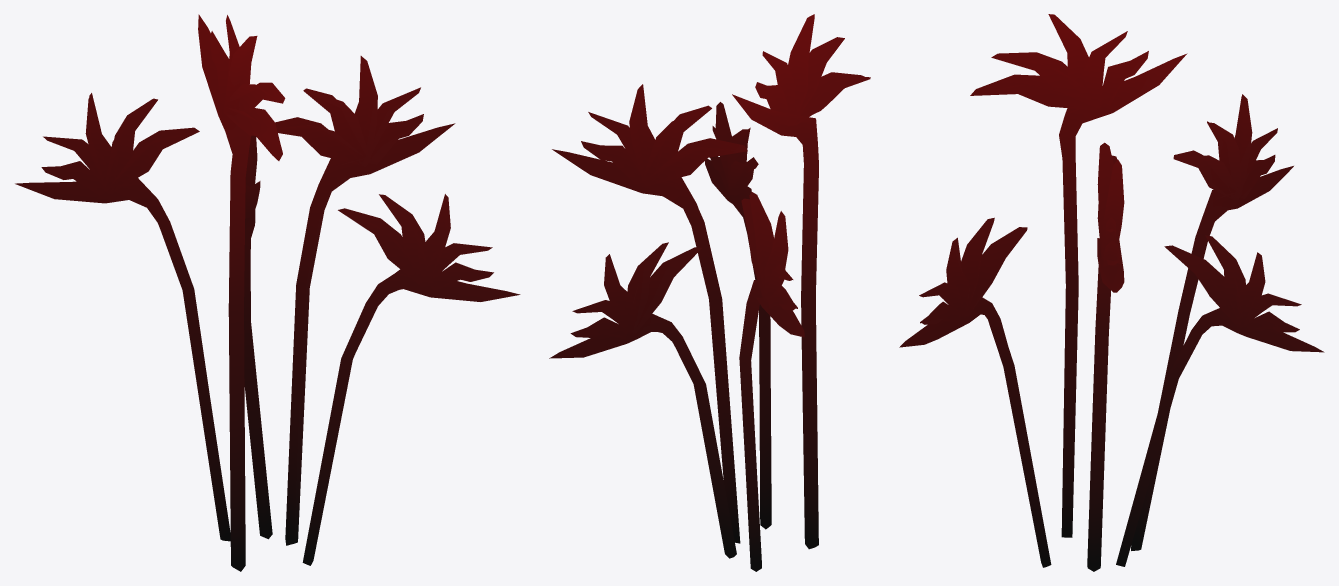
Rendered from SM_Env_Flowers_04.gltf.
3 views of the same model, side by side, from view 1: azimuth 30°, elevation 25°; view 2: azimuth 150°, elevation 25°; view 3: azimuth 270°, elevation 25° (orthographic). The views are drawn at different scales.
Parts seen in each view (by area): view 1: SM_Env_Flowers_04_LOD0; view 2: SM_Env_Flowers_04_LOD0; view 3: SM_Env_Flowers_04_LOD0.
Part boxes in pixels (x1,y1,x2,y2): SM_Env_Flowers_04_LOD0: (15, 14, 520, 571); SM_Env_Flowers_04_LOD0: (549, 14, 870, 571); SM_Env_Flowers_04_LOD0: (899, 14, 1324, 571).
Bounding box in the file's own units: 1.23 × 1.82 × 1.32.
